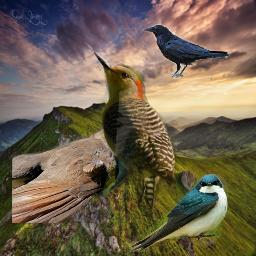Crow: (142, 24, 230, 80)
Cuckoo: (12, 116, 151, 223)
Swallow: (129, 174, 229, 252)
Woodpecker: (93, 52, 176, 214)
